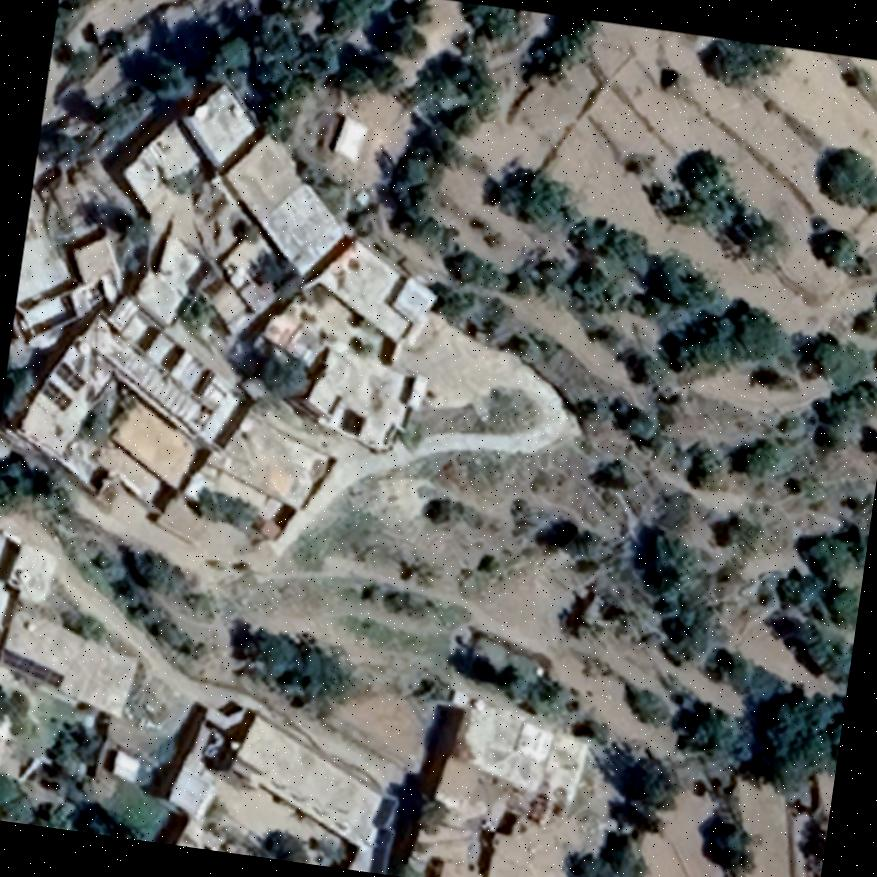Solarpanel: (0, 646, 66, 689), (34, 376, 77, 414), (48, 355, 88, 393)
